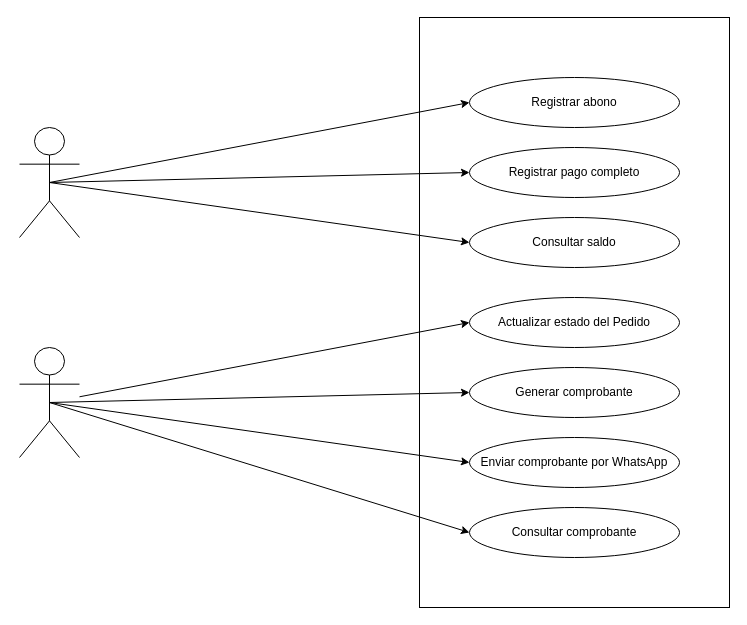
This 747x625 diagram has some shape labels left out. The box of each missing label's shape, as (x1, y1, x2, y2) in pixels:
Cliente: (18, 126, 80, 238)
Personal de Atención: (18, 346, 80, 458)
Sistema Dulce Dia (Pagos y Comprobantes): (418, 16, 730, 608)
